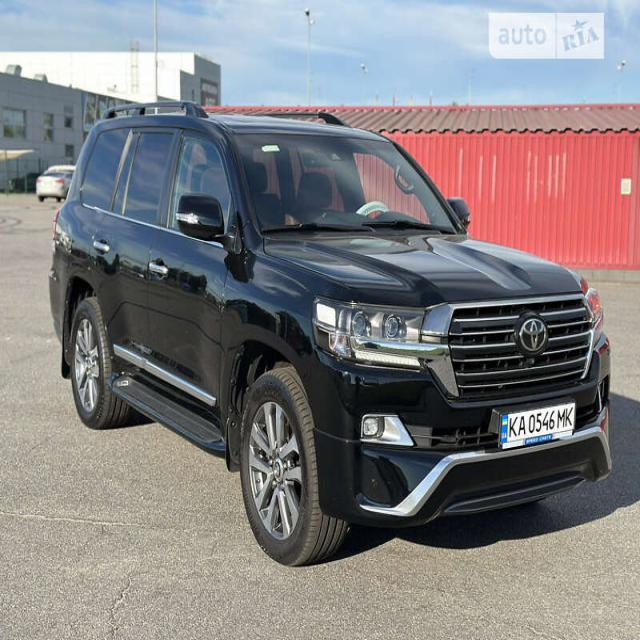plate: (499, 393, 587, 467)
